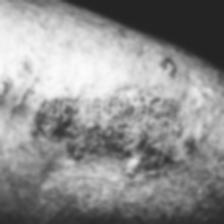Potentially Malignant Skin Tumors: (35, 119, 185, 177), (0, 76, 19, 114), (164, 60, 180, 80), (19, 58, 33, 78)
